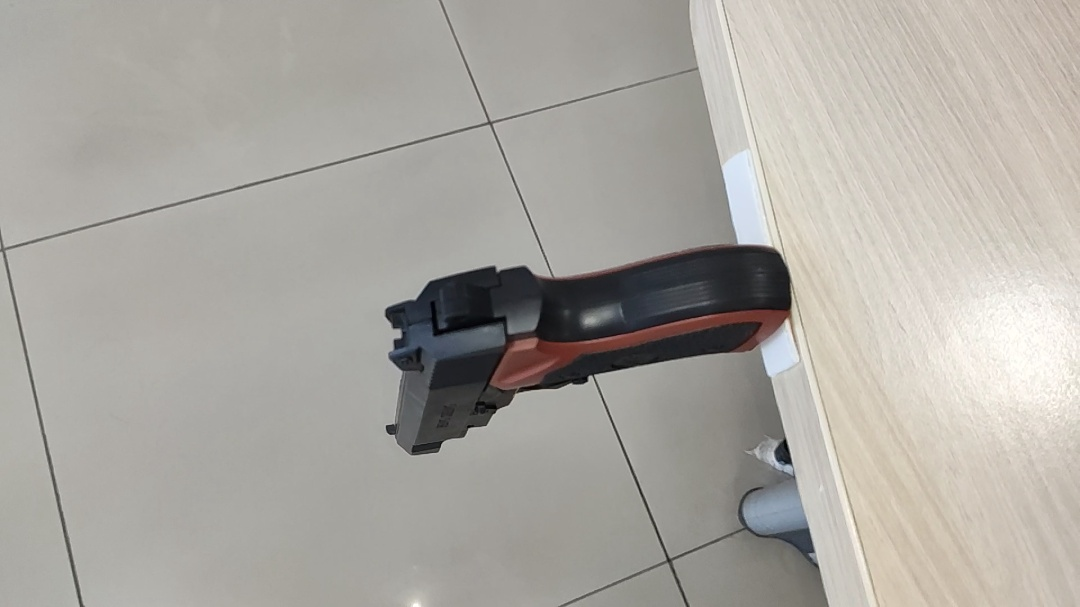gun: (440, 248, 572, 342)
